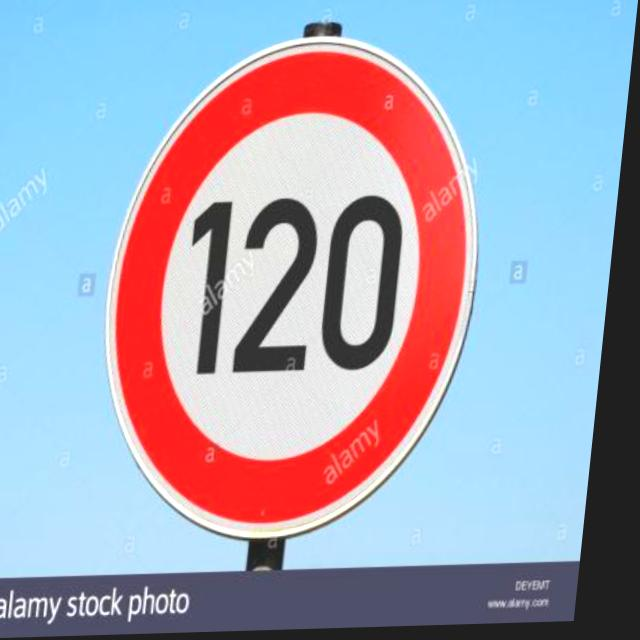limit120: (78, 14, 512, 554)
